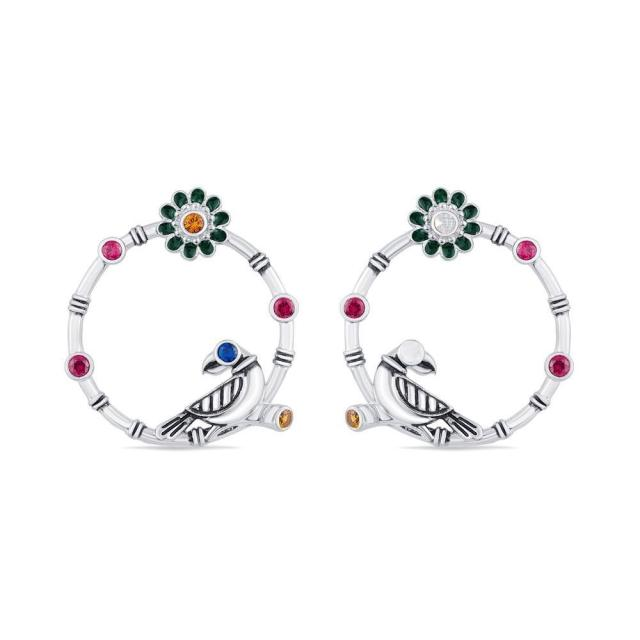missing gem: (399, 341, 423, 363), (435, 213, 455, 234)
